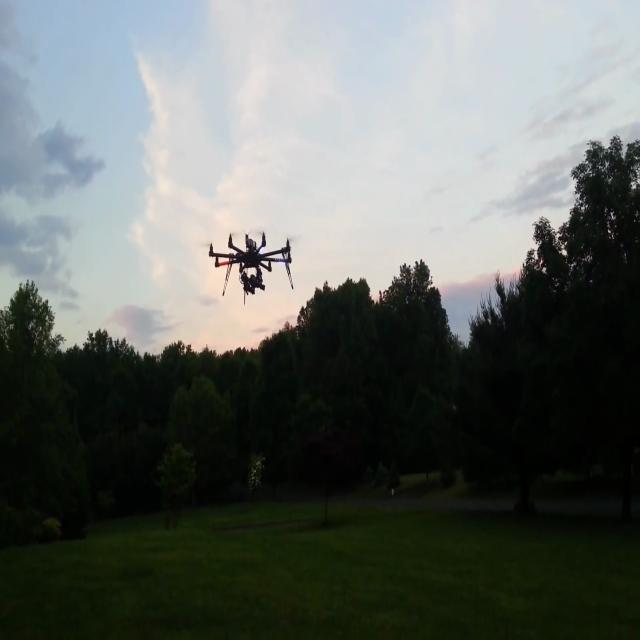drone: (204, 197, 316, 334)
